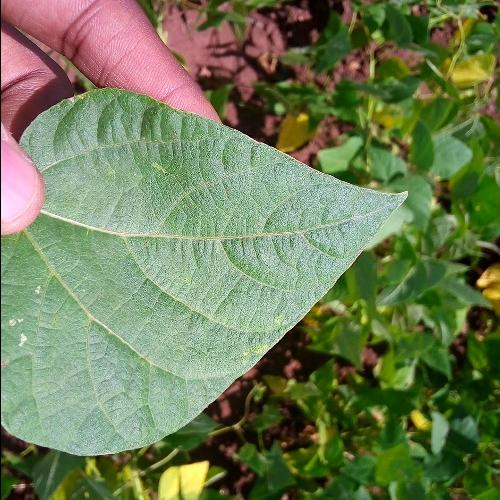embun tepung: (3, 281, 44, 349)
mozaik: (70, 242, 176, 404), (230, 309, 289, 364)
